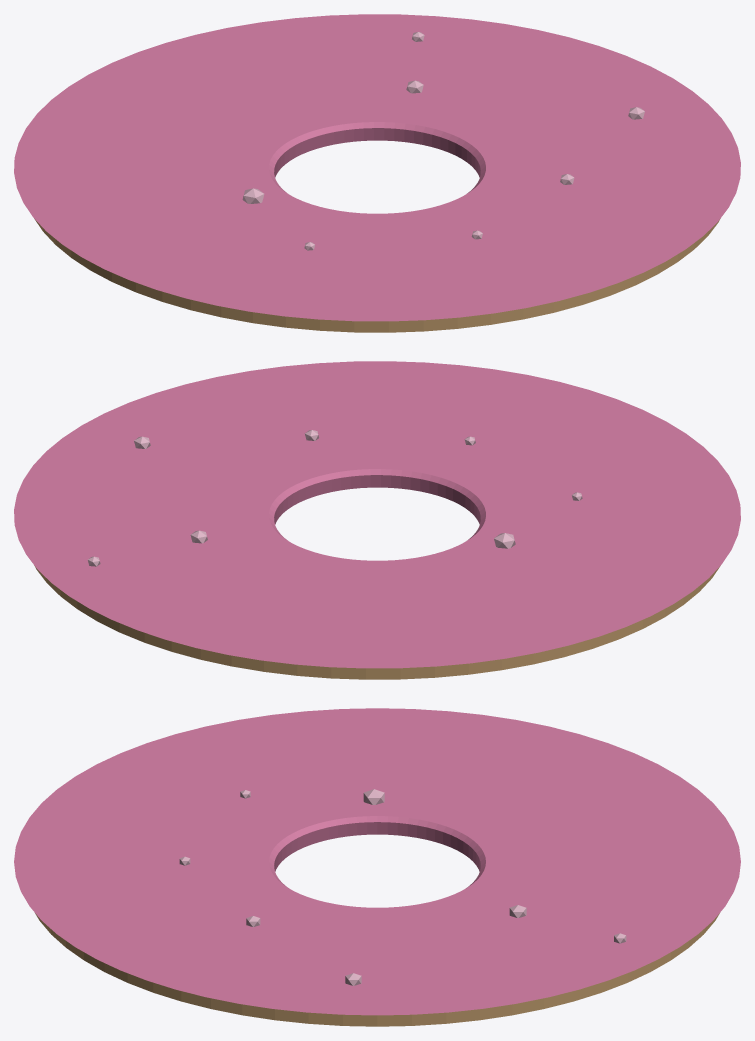
Rendered from goo_jar_deck_4@candy.fbx.
The picture shows the model from 3 angles, top to bottom: view 1: azimuth 30°, elevation 25°; view 2: azimuth 150°, elevation 25°; view 3: azimuth 270°, elevation 25°; orthographic projection.
Parts seen in each view (by area): view 1: goo_jar_deck_4; view 2: goo_jar_deck_4; view 3: goo_jar_deck_4.
Boxes of the visible parts, x1,y1,x2,y2 form: goo_jar_deck_4: (14,14,740,332); goo_jar_deck_4: (14,361,740,679); goo_jar_deck_4: (14,708,740,1026).
Bounding box in the file's own units: 42.2 × 1.78 × 42.2.
